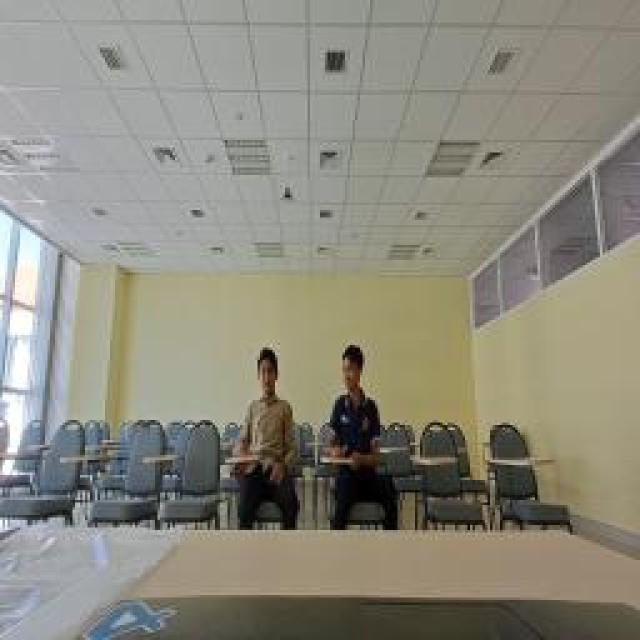study: (235, 345, 303, 530), (325, 345, 393, 523)
